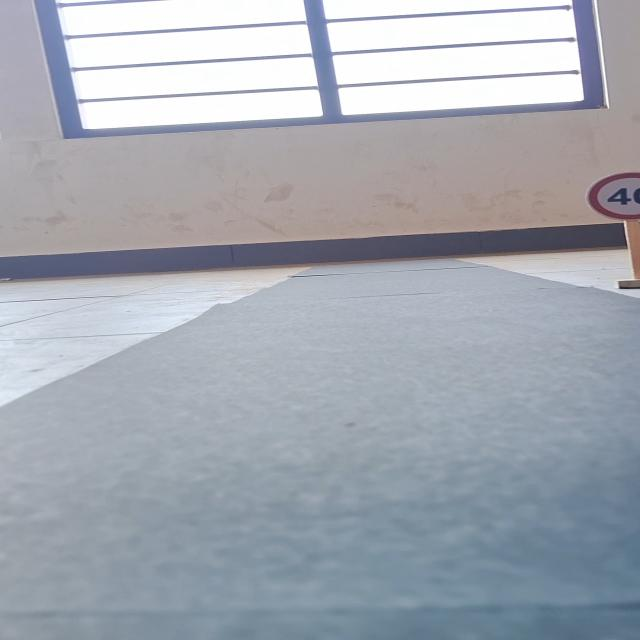Speed40: (587, 172, 640, 222)
